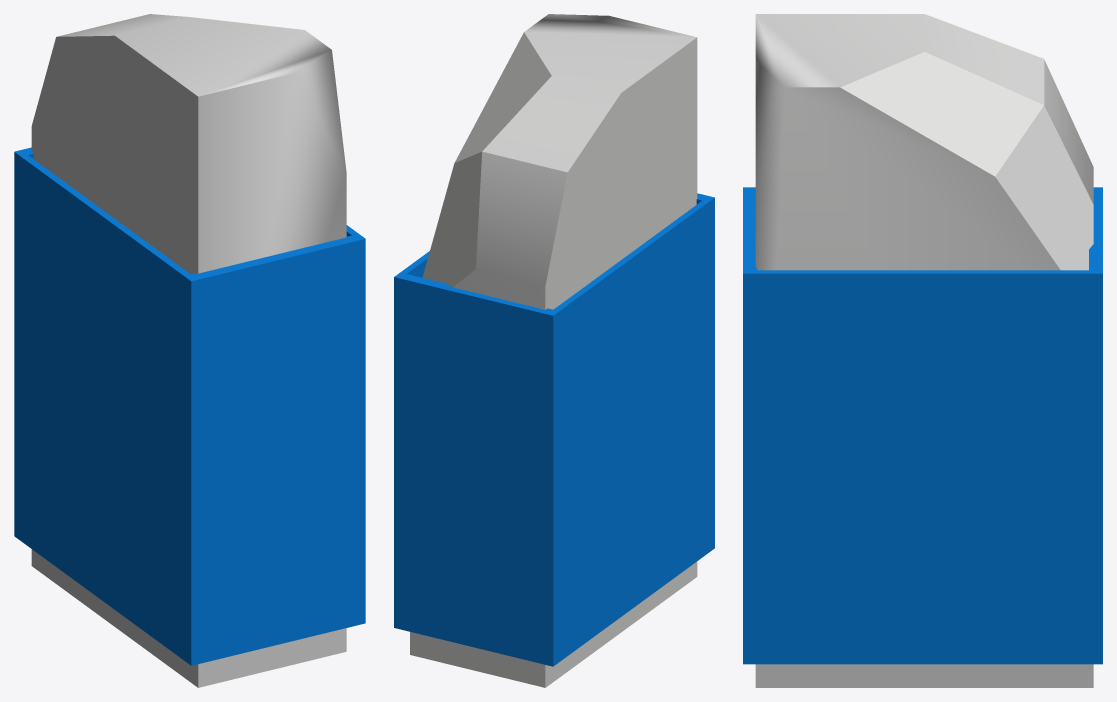
Rendered from Rubber.fbx.
3 views of the same model, side by side, from view 1: azimuth 30°, elevation 25°; view 2: azimuth 150°, elevation 25°; view 3: azimuth 270°, elevation 25° (orthographic). The views are drawn at different scales.
Parts seen in each view (by area): view 1: Eraser_Cover; view 2: Eraser_Cover; view 3: Eraser_Cover.
Boxes of the visible parts, left/top/right/bottom form: Eraser_Cover: left=14, top=14, right=365, bottom=687; Eraser_Cover: left=394, top=14, right=714, bottom=687; Eraser_Cover: left=743, top=14, right=1102, bottom=687.
Size of the model in its own units: 0.4747 by 1.54 by 0.8354.
